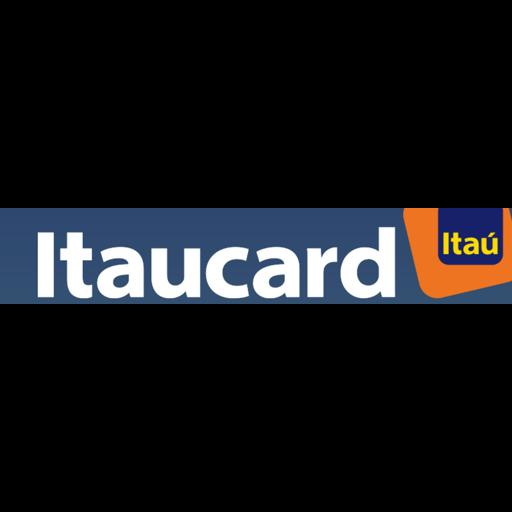Itau Unibanco S-A: (0, 208, 512, 304)
